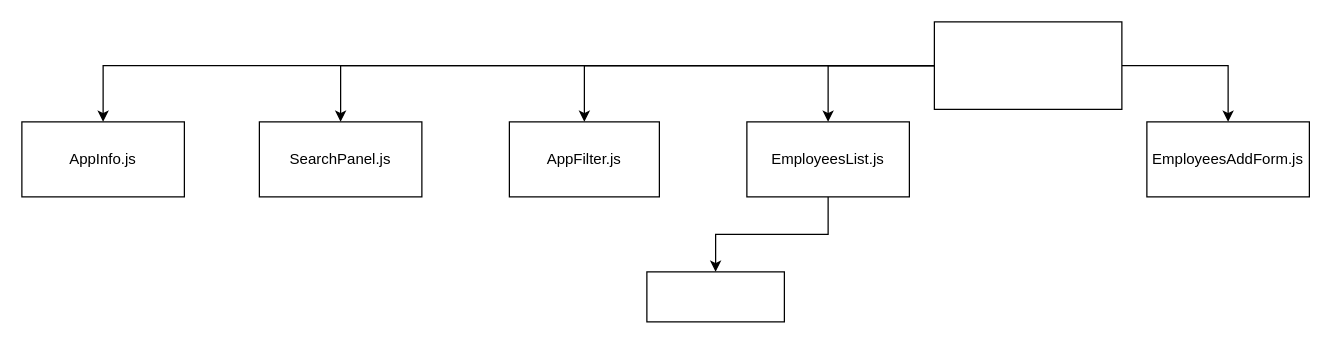
This 1331x344 diagram has some shape labels left out. Each missing label, with the centre of its shape:
"App.js" goes at point (1027, 65).
"EmployeesListItem.js" goes at point (715, 296).
